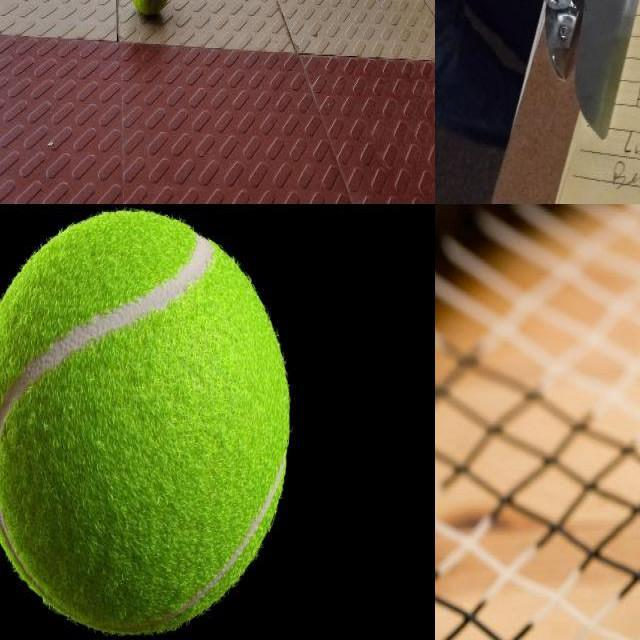tennis-ball: (0, 210, 293, 638), (129, 0, 169, 13)
